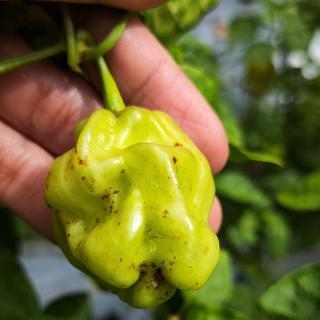Defect: (128, 258, 174, 294), (96, 190, 118, 205)
Fly-bites: (156, 206, 176, 222), (92, 213, 106, 228), (171, 152, 182, 169), (71, 142, 82, 156), (119, 166, 130, 178), (77, 157, 89, 167), (172, 140, 186, 148), (64, 219, 74, 230), (81, 172, 90, 183)
